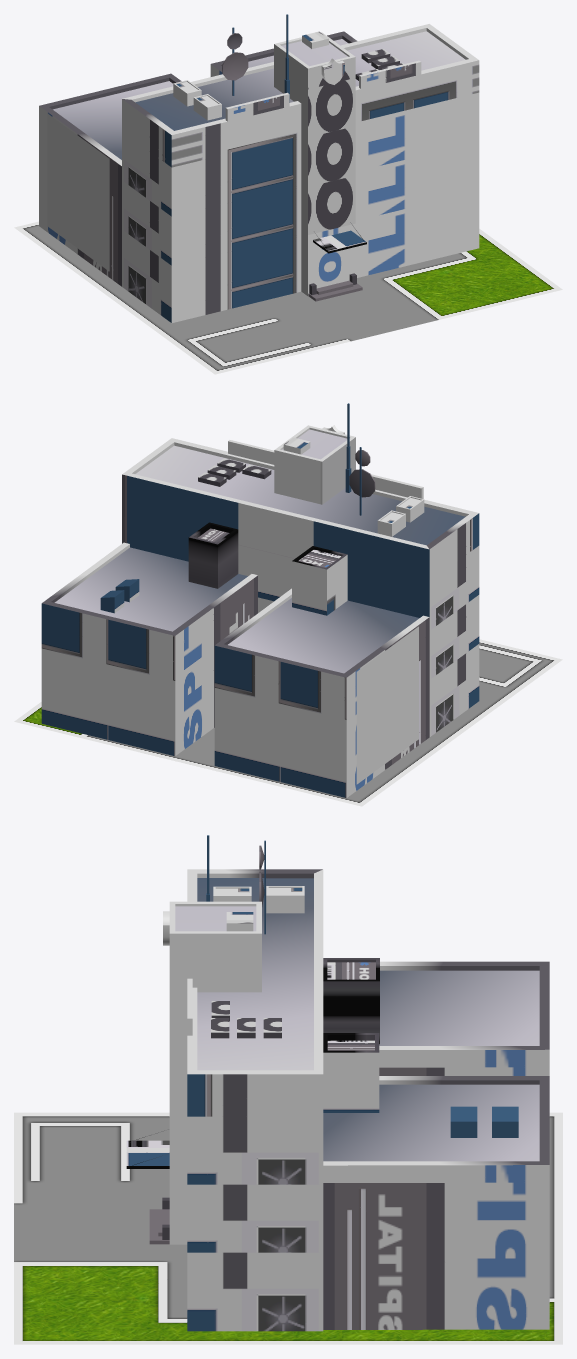
The model's file is Police_Lvl_4.fbx.
3 views of the same model, one above another, from view 1: azimuth 30°, elevation 25°; view 2: azimuth 150°, elevation 25°; view 3: azimuth 270°, elevation 25° (orthographic). The views are drawn at different scales.
Parts seen in each view (by area): view 1: PoliceDept_Lvl_4, Police_BG, Graffiti_001; view 2: PoliceDept_Lvl_4, Police_BG, Graffiti_001; view 3: PoliceDept_Lvl_4, Police_BG.
Boxes of the visible parts, box(x1,y1,x2,y2) form: PoliceDept_Lvl_4: box(39, 14, 479, 322); Police_BG: box(14, 221, 562, 374); Graffiti_001: box(47, 113, 109, 271); PoliceDept_Lvl_4: box(41, 403, 479, 797); Police_BG: box(14, 639, 562, 806); Graffiti_001: box(356, 626, 418, 784); PoliceDept_Lvl_4: box(126, 835, 549, 1331); Police_BG: box(14, 1112, 562, 1344).
Bounding box in the file's own units: 2000 × 1498 × 2000.
